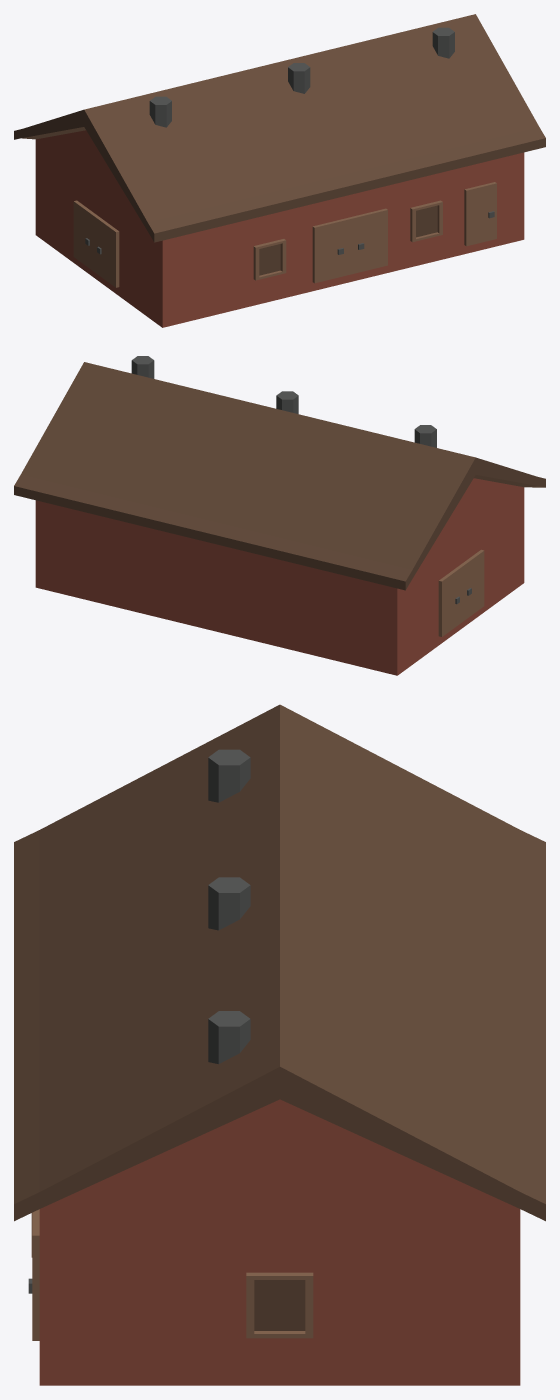
Rendered from env_house2_mesh_01_v1.glb.
3 renders of one model, top to bottom at view 1: azimuth 30°, elevation 25°; view 2: azimuth 150°, elevation 25°; view 3: azimuth 270°, elevation 25°, orthographic. The views are drawn at different scales.
Parts seen in each view (by area): view 1: Cube; view 2: Cube; view 3: Cube.
Part boxes in pixels (x1,y1,x2,y2): Cube: [14, 14, 545, 327]; Cube: [14, 356, 545, 675]; Cube: [14, 704, 545, 1385].
Size of the model in its own units: 25.62 by 11.16 by 15.9.
